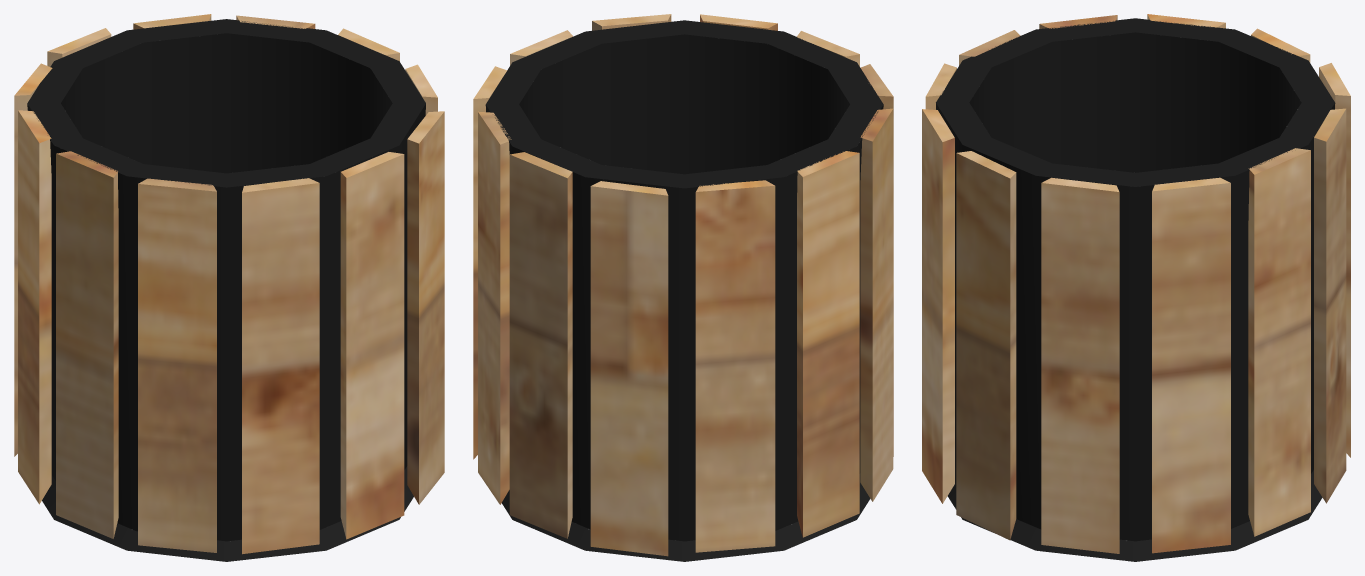
Rendered from TrashCanPark.fbx.
3 views of the same model, side by side, from view 1: azimuth 30°, elevation 25°; view 2: azimuth 150°, elevation 25°; view 3: azimuth 270°, elevation 25° (orthographic).
Parts seen in each view (by area): view 1: TrashCanPark; view 2: TrashCanPark; view 3: TrashCanPark.
Boxes of the visible parts, box(x1,y1,x2,y2) form: TrashCanPark: box(14, 14, 444, 561); TrashCanPark: box(473, 14, 893, 561); TrashCanPark: box(922, 14, 1350, 561).
Bounding box in the file's own units: 106 × 104 × 107.
Materials: 1 (1 with a texture image).
